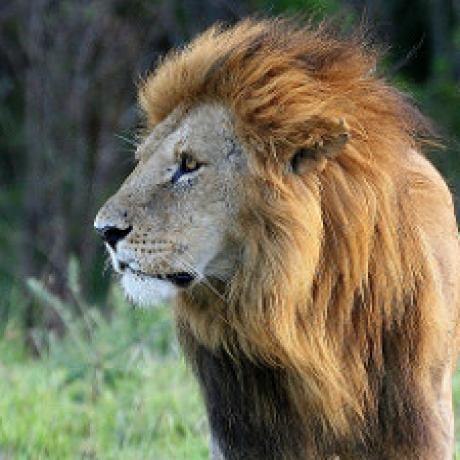Lion: (92, 15, 460, 460)
